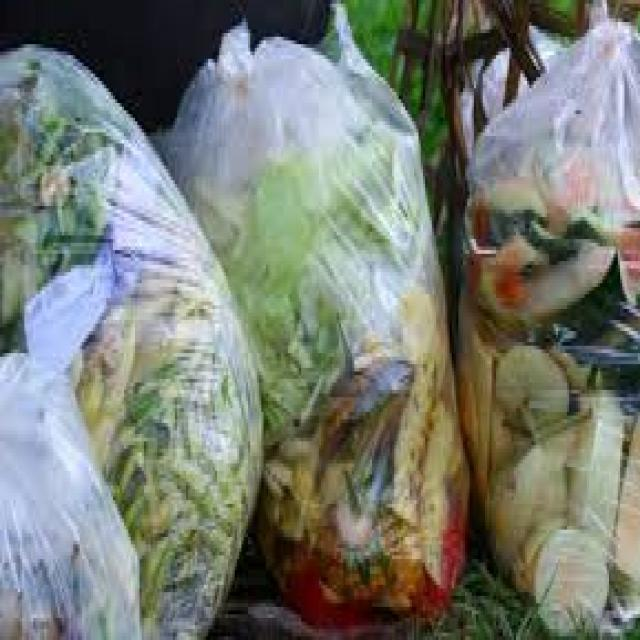plastic_bag: (167, 1, 499, 637), (2, 34, 283, 638)
